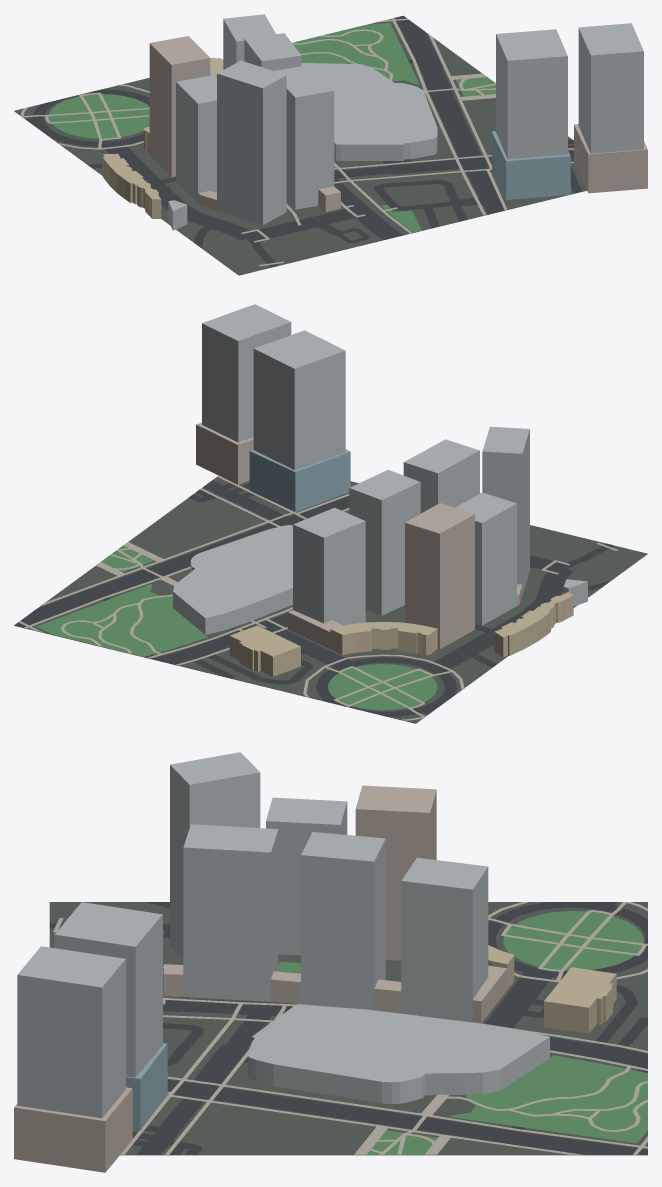
The model's file is tile_002_007.glb.
3 renders of one model, top to bottom at view 1: azimuth 30°, elevation 25°; view 2: azimuth 150°, elevation 25°; view 3: azimuth 270°, elevation 25°, orthographic. The views are drawn at different scales.
Parts seen in each view (by area): view 1: tile_002_007_buildings_neutral, tile_002_007_ground, tile_002_007_roads, tile_002_007_buildings_residential, tile_002_007_open_spaces, tile_002_007_paths, tile_002_007_buildings_office, tile_002_007_buildings_retail; view 2: tile_002_007_buildings_neutral, tile_002_007_ground, tile_002_007_roads, tile_002_007_buildings_residential, tile_002_007_open_spaces, tile_002_007_buildings_retail, tile_002_007_paths, tile_002_007_buildings_office; view 3: tile_002_007_buildings_neutral, tile_002_007_ground, tile_002_007_roads, tile_002_007_buildings_residential, tile_002_007_open_spaces, tile_002_007_paths, tile_002_007_buildings_retail, tile_002_007_buildings_office.
Part boxes in pixels (x1,y1,x2,y2): tile_002_007_buildings_neutral: (168,14,643,230); tile_002_007_ground: (14,18,586,275); tile_002_007_roads: (25,15,581,267); tile_002_007_buildings_residential: (149,36,647,212); tile_002_007_open_spaces: (49,23,495,232); tile_002_007_paths: (20,18,573,266); tile_002_007_buildings_office: (492,131,570,199); tile_002_007_buildings_retail: (102,57,223,218); tile_002_007_buildings_neutral: (173,304,587,634); tile_002_007_ground: (14,477,647,723); tile_002_007_roads: (14,480,613,716); tile_002_007_buildings_residential: (196,422,522,649); tile_002_007_open_spaces: (36,545,437,710); tile_002_007_buildings_retail: (229,592,573,676); tile_002_007_paths: (18,475,618,720); tile_002_007_buildings_office: (249,449,350,512); tile_002_007_buildings_neutral: (17,752,549,1118); tile_002_007_ground: (49,902,647,1155); tile_002_007_roads: (49,902,647,1154); tile_002_007_buildings_residential: (14,785,506,1172); tile_002_007_open_spaces: (278,911,647,1154); tile_002_007_paths: (53,902,647,1154); tile_002_007_buildings_retail: (488,945,616,1033); tile_002_007_buildings_office: (126,1043,167,1130).
Bounding box in the file's own units: 272 × 84.26 × 265.
